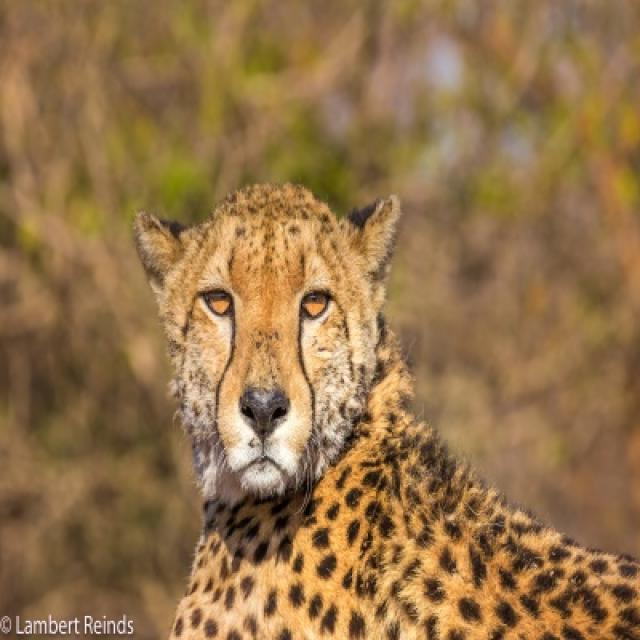Cheetah: (133, 184, 638, 638)
